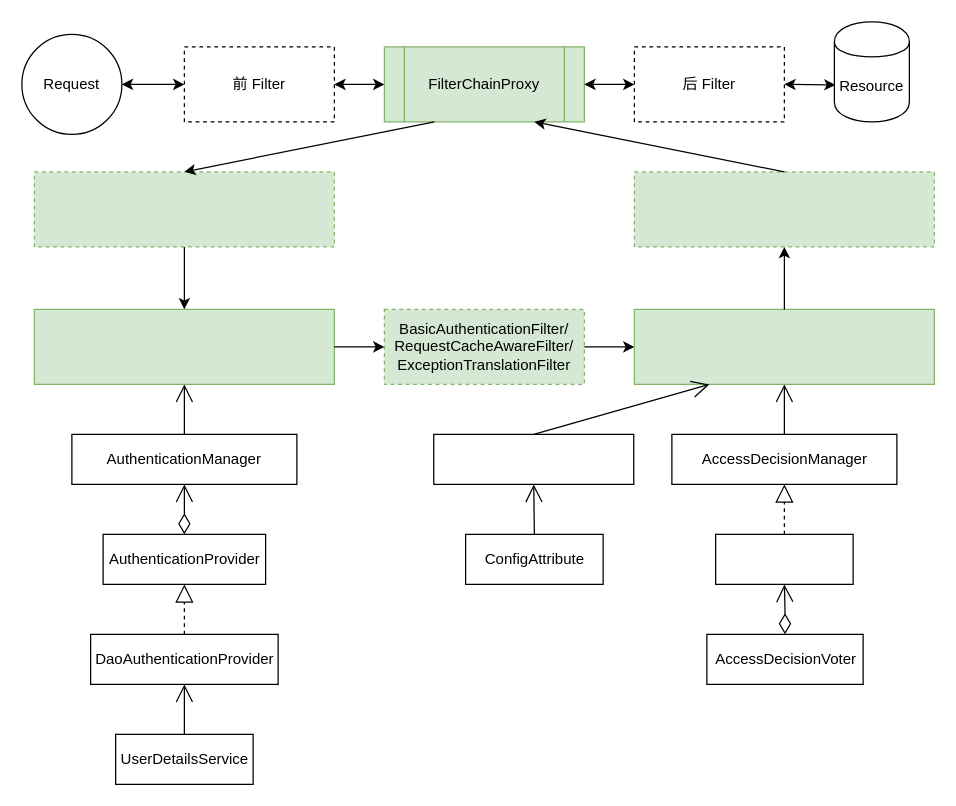
Some shapes in this 956 by 806 pixel diagram are drawn without their labels. Here are the shapes that lost their labels. From the top down, the centre of each, then its label:
the point at 183,209: HeaderWriterFilter/CorsFilter/CsrfFilter ...
the point at 783,209: SwitchUserFilter/...
the point at 183,346: UsernamePasswordAuthenticationFilter
the point at 783,346: FilterSecurityInterceptor
the point at 533,458: SecurityMetadataSource
the point at 783,558: AffirmativeBased
